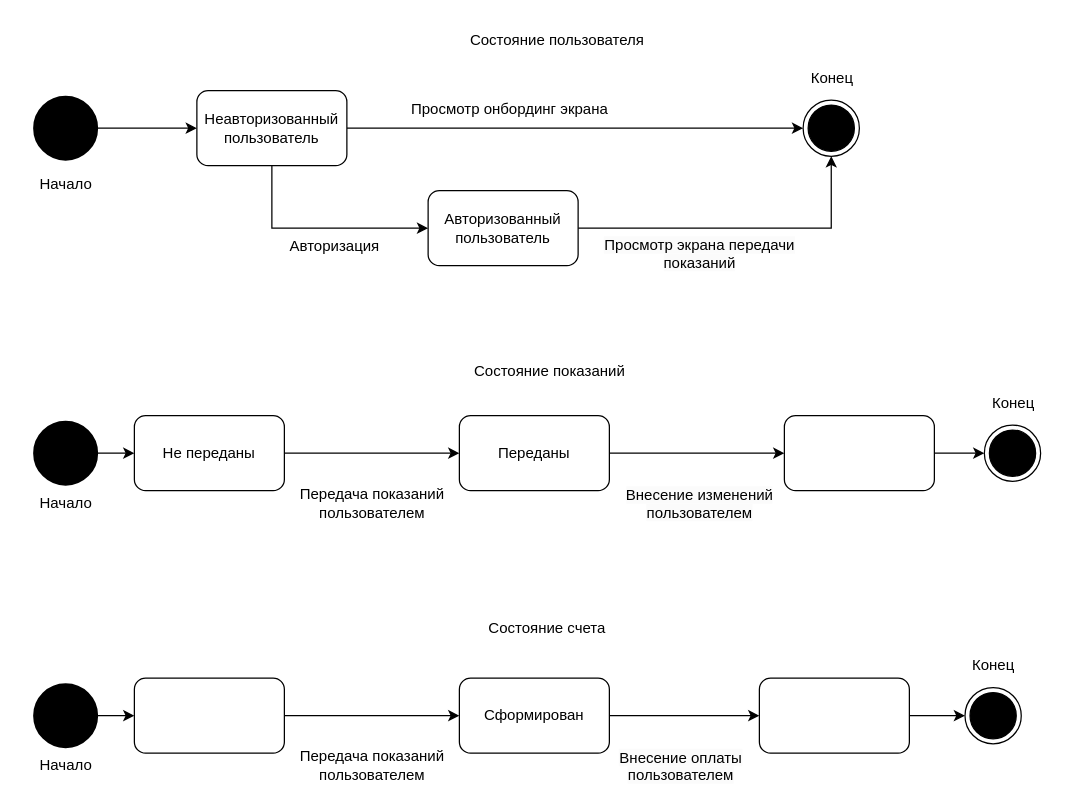
The diagram is 1071 pixels wide and 811 high, and some of its shapes have lost their labels. The centre of each missing label's shape, as x and y in pixels:
"Изменены" belongs at (x=858, y=452).
"Не сформирован" belongs at (x=208, y=715).
"Оплачен" belongs at (x=833, y=715).
